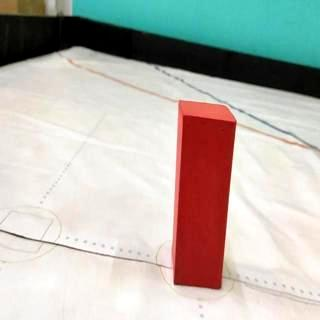redbox: (173, 100, 236, 290)
